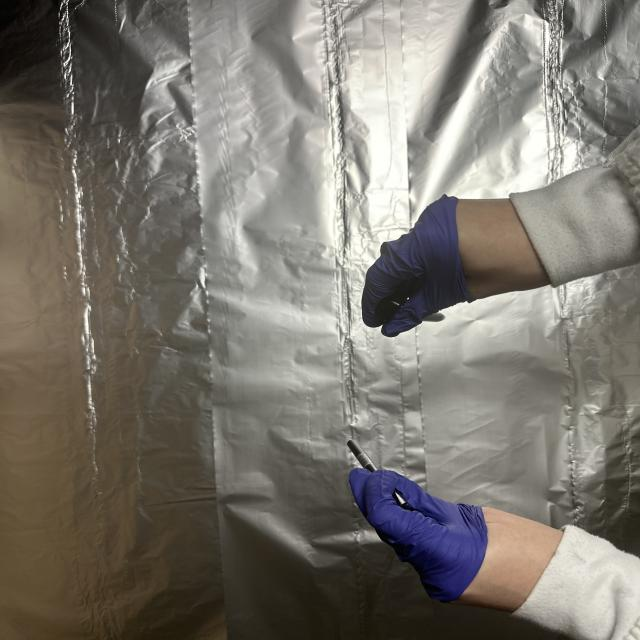glove_partial: (345, 465, 574, 618), (362, 191, 566, 340)
